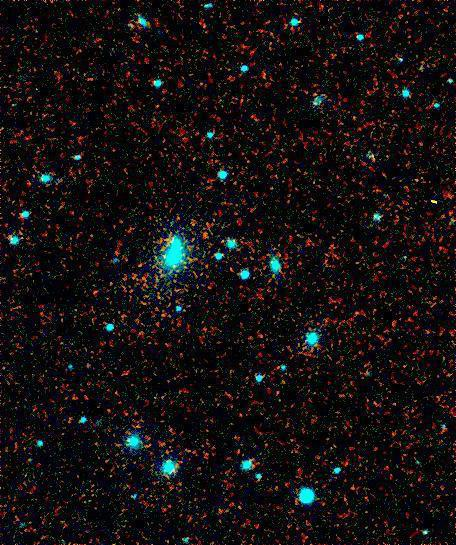star: (177, 213, 207, 243)
